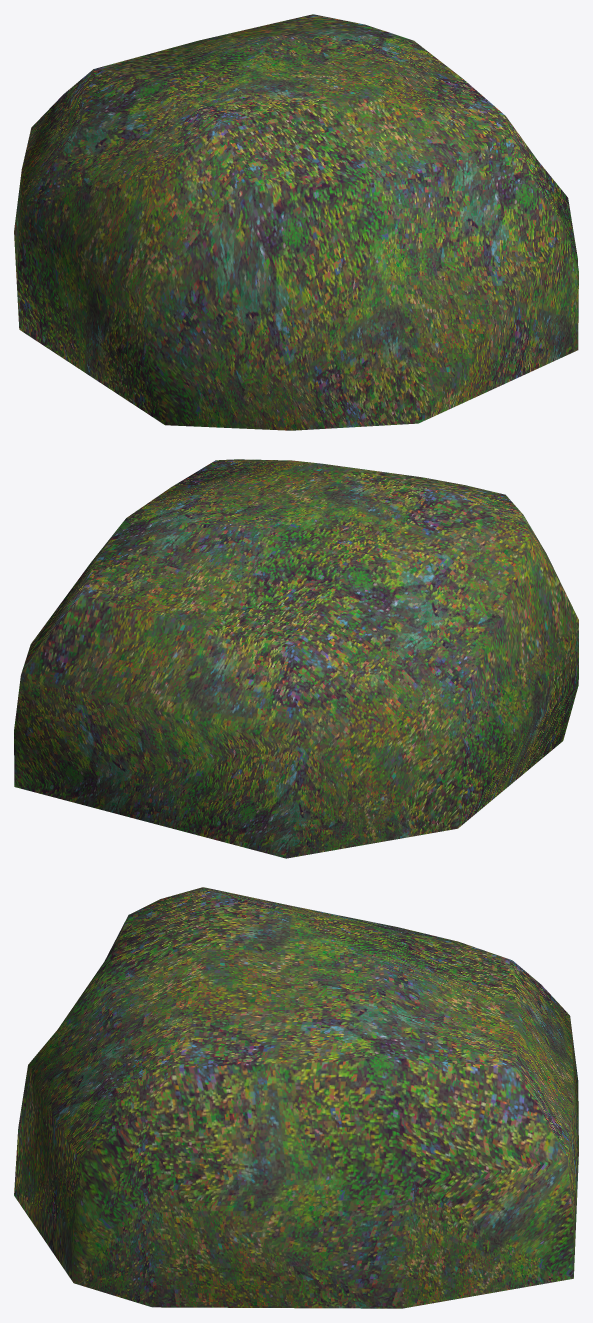
File: rock_mossy_small_l1.fbx
3 renders of one model, top to bottom at view 1: azimuth 30°, elevation 25°; view 2: azimuth 150°, elevation 25°; view 3: azimuth 270°, elevation 25°, orthographic. The views are drawn at different scales.
Visible parts, largest first — view 1: mesh_node; view 2: mesh_node; view 3: mesh_node.
Boxes of the visible parts, box(x1,y1,x2,y2) form: mesh_node: box(14, 14, 578, 430); mesh_node: box(14, 459, 578, 858); mesh_node: box(14, 887, 578, 1308).
Bounding box in the file's own units: 1.67 × 0.9359 × 1.83.
